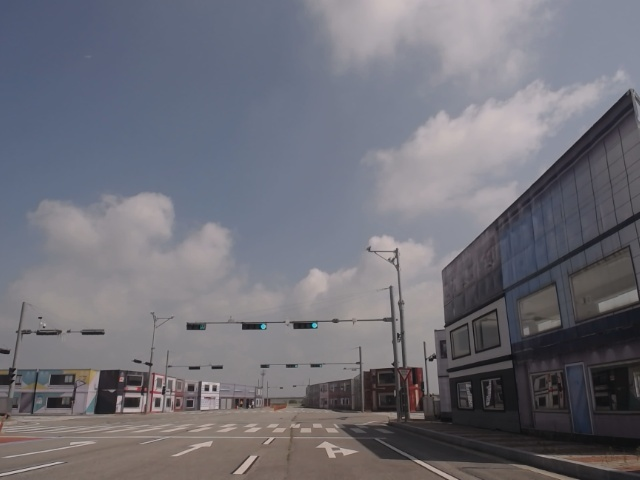straight_green_4: (293, 321, 319, 329), (243, 322, 268, 330)
